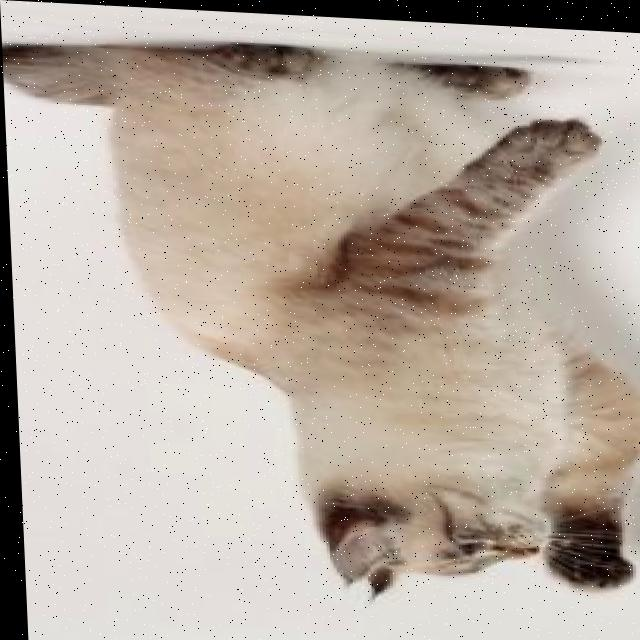American Bobtail: (1, 28, 640, 616)
